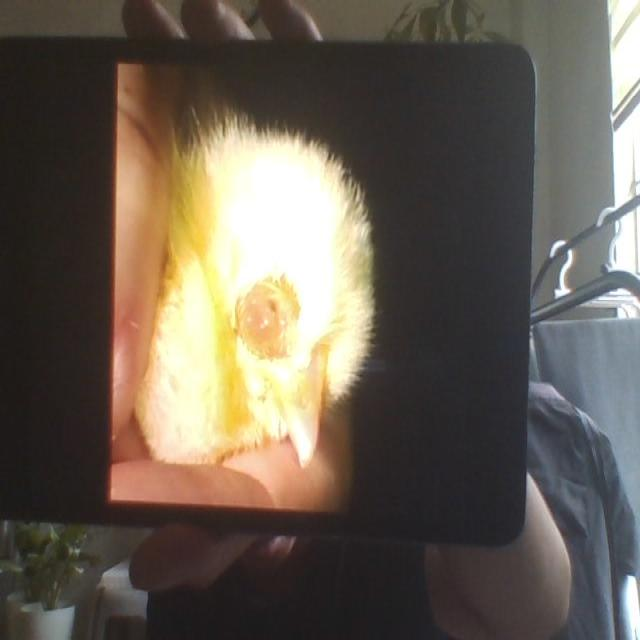Sick: (132, 120, 366, 454)
